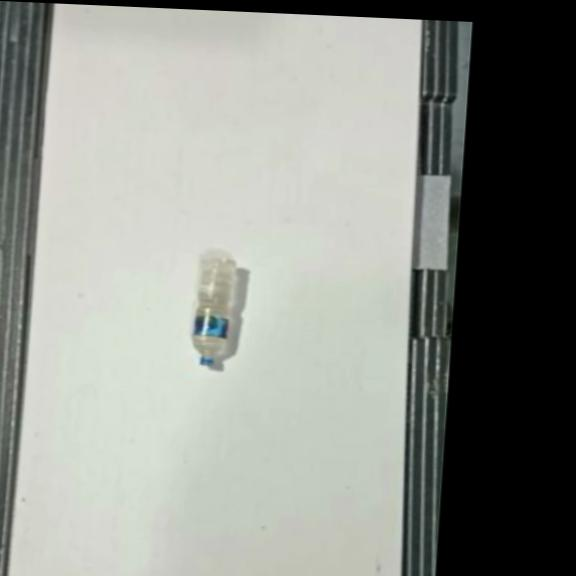Plastik: (189, 248, 237, 367)
